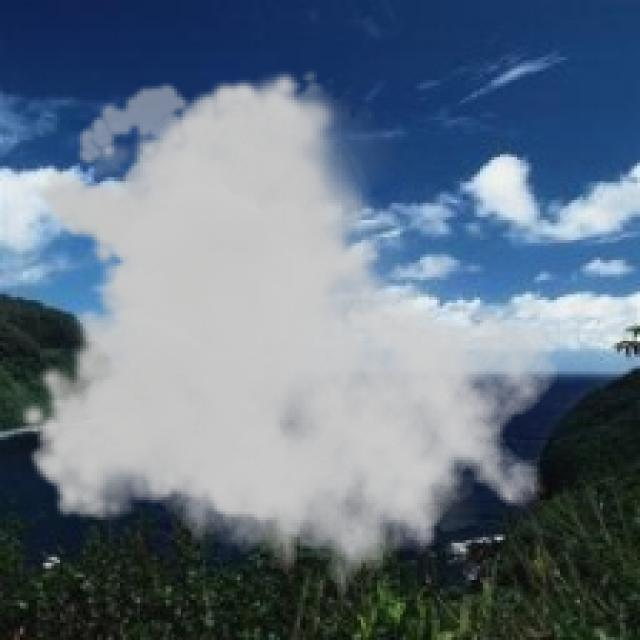Smoke: (17, 68, 560, 614)
